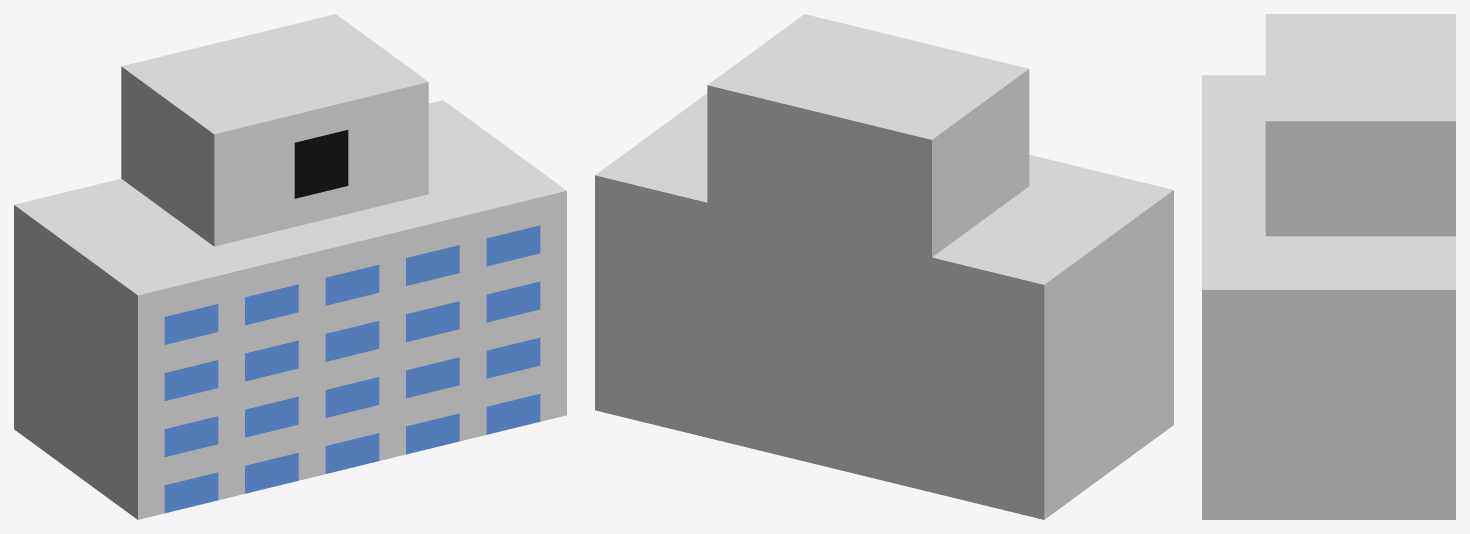
The model's file is School.fbx.
3 renders of one model, left to right at view 1: azimuth 30°, elevation 25°; view 2: azimuth 150°, elevation 25°; view 3: azimuth 270°, elevation 25°, orthographic. The views are drawn at different scales.
Visible parts, largest first — view 1: School; view 2: School; view 3: School.
Part boxes in pixels (x1,y1,x2,y2): School: [14, 14, 566, 519]; School: [595, 14, 1173, 519]; School: [1202, 14, 1455, 519].
Size of the model in its own units: 0.16 by 0.12 by 0.08.
